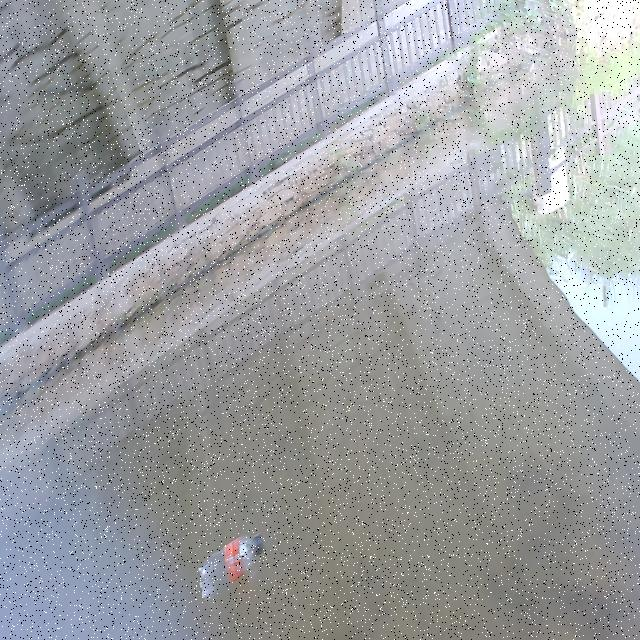Bottle: (195, 525, 268, 602)
